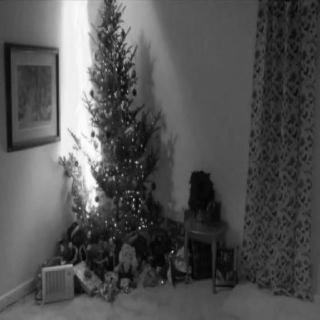Fire: (56, 0, 102, 214)
